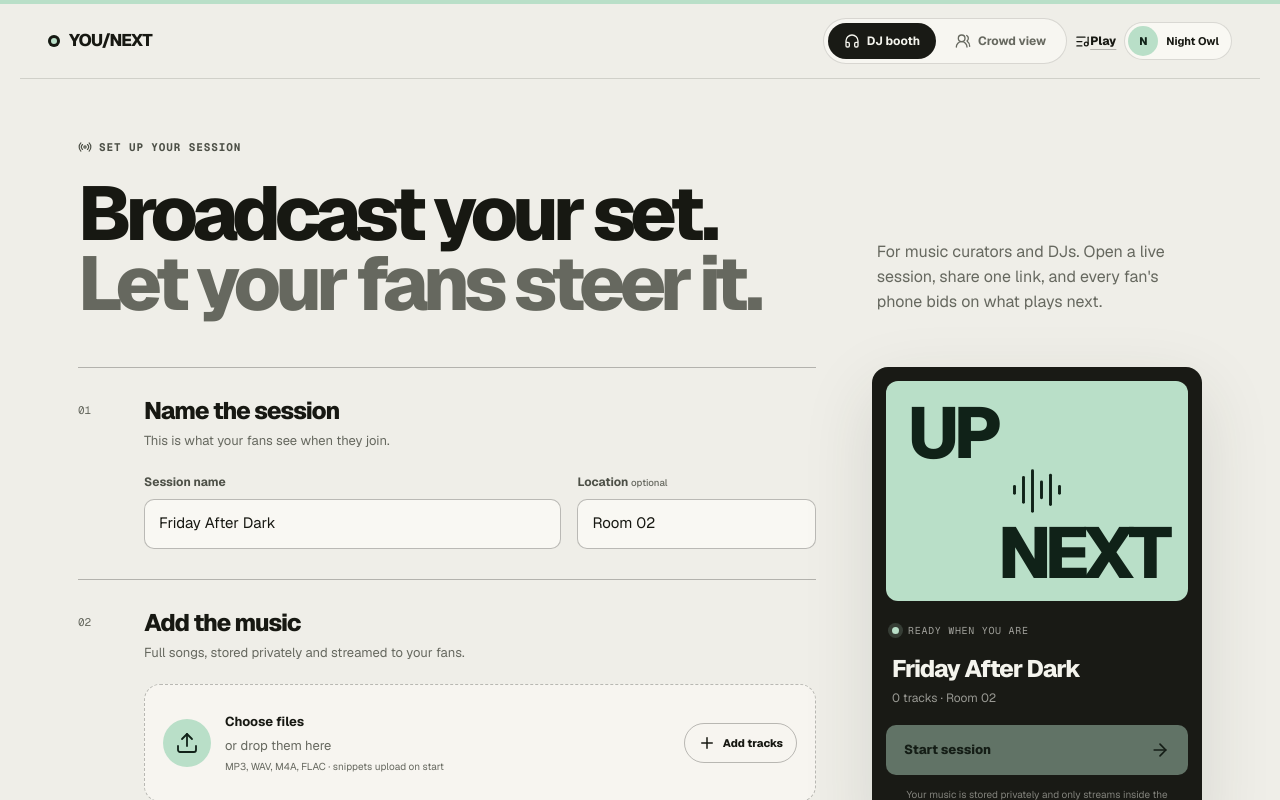
Test: the profile sheet › saves a new username and renames the chip behind it
Click the button with aria-label "Edit your profile".
click(1178, 41)  # box [1124,22,1232,60]
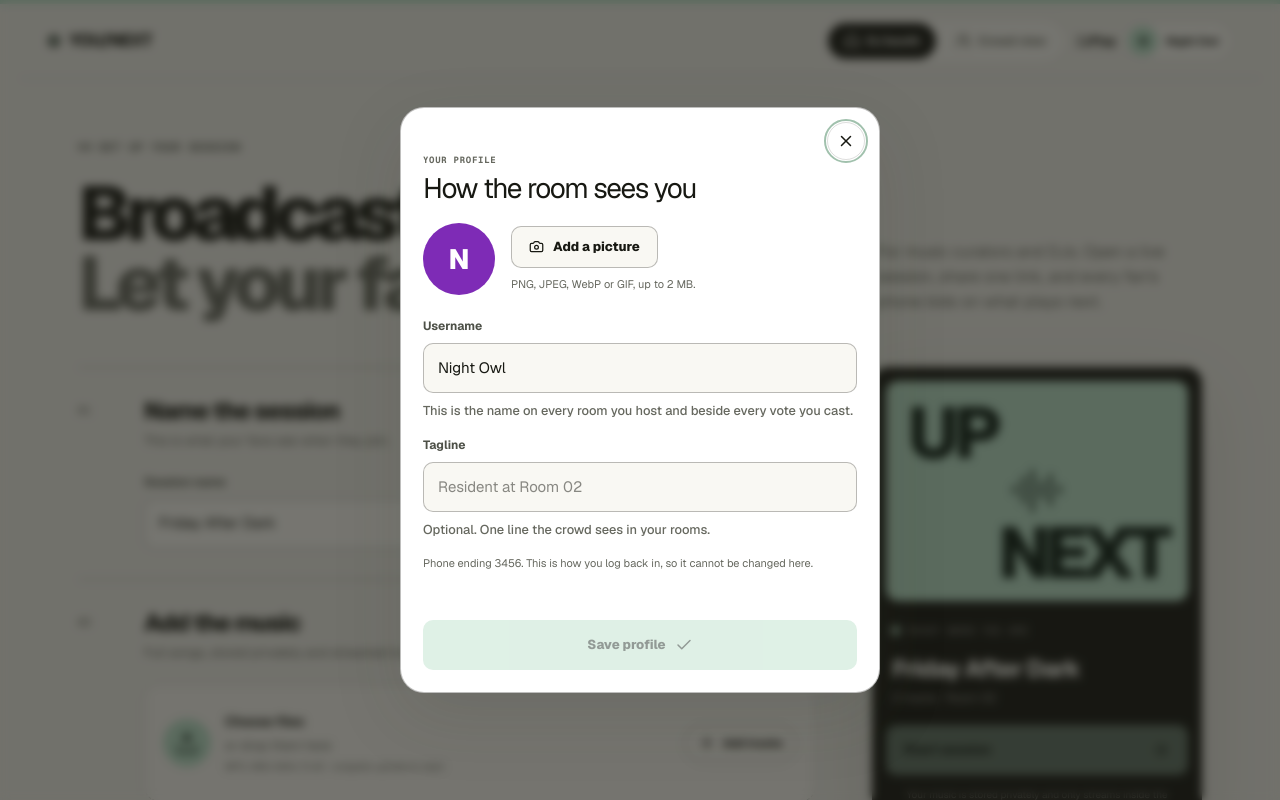
Clear the field labelled "Username" at (640, 368), box [423,343,857,393]
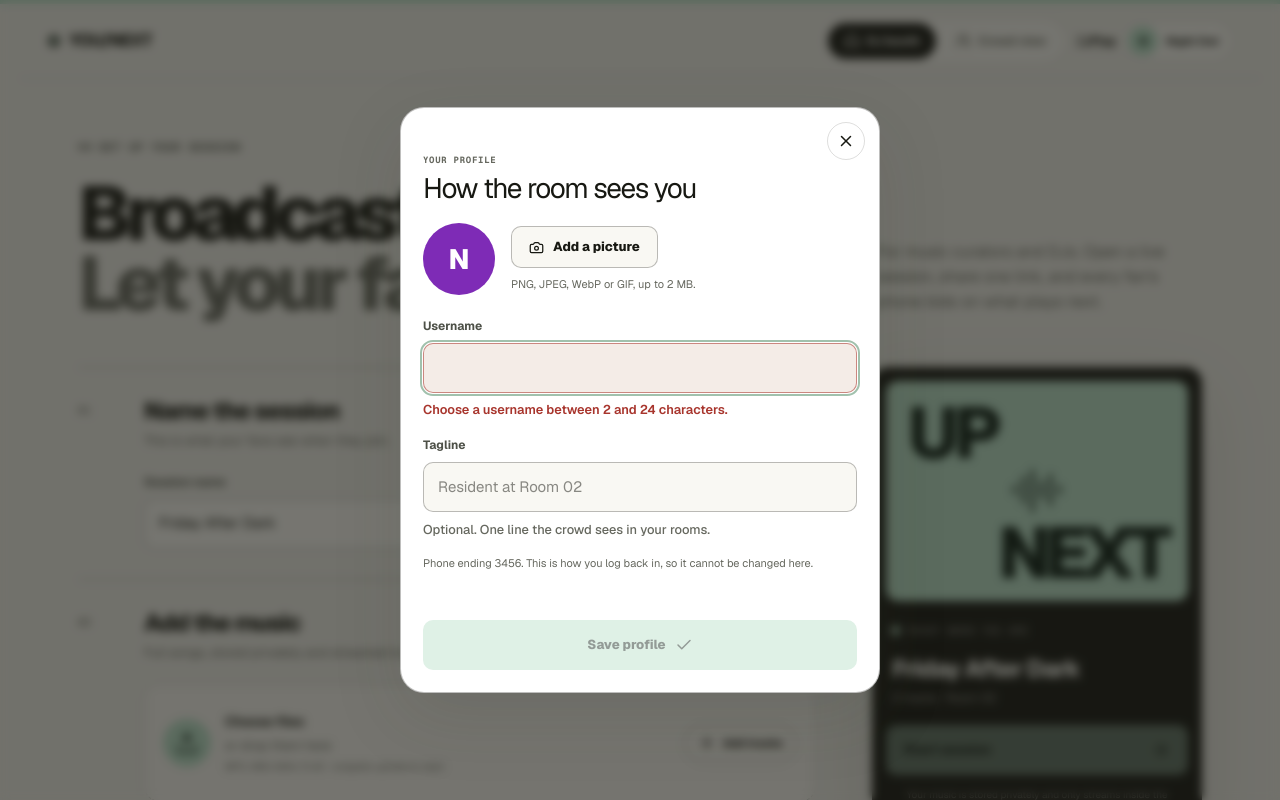
Type "Mint Fox" into the field labelled "Username Choose a username between 2 and 24 characters.".
click(640, 368); type("Mint Fox")  # box [423,343,857,393]
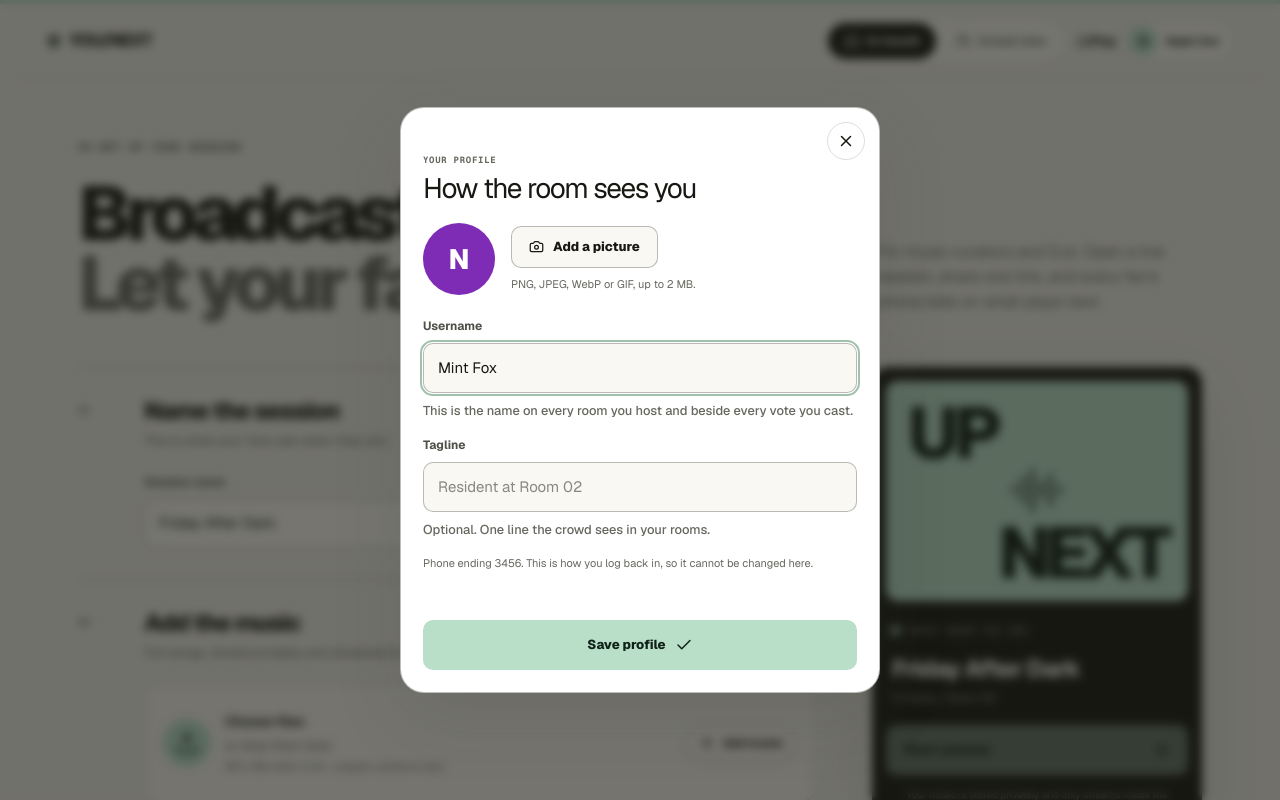
Click the button "Save profile".
click(640, 645)  # box [423,620,857,670]
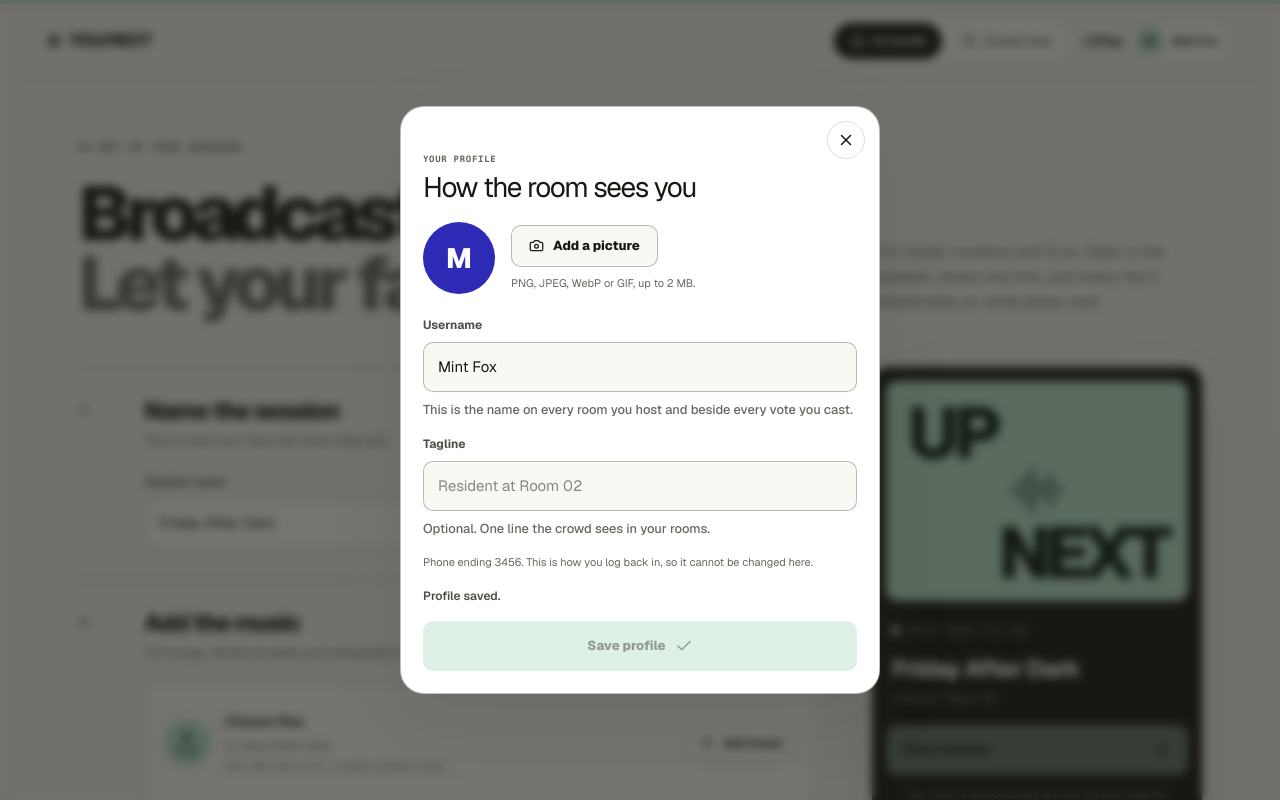
Check: the button with aria-label "Signed in as Mint Fox" is shown, box [1131,22,1232,60]
Check: the text "Profile saved." is shown, box [423,588,500,604]
